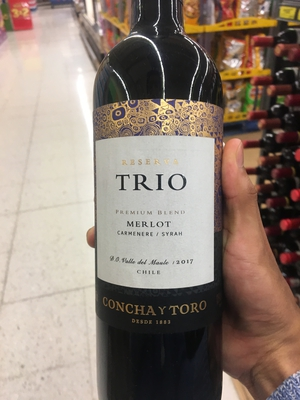trio merlot: (84, 15, 236, 384)
